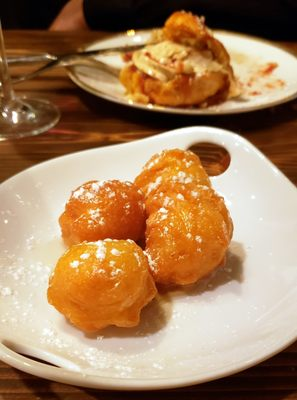curry: (0, 6, 297, 400)
sandwich: (0, 0, 61, 140)
sushi: (118, 9, 233, 107)
